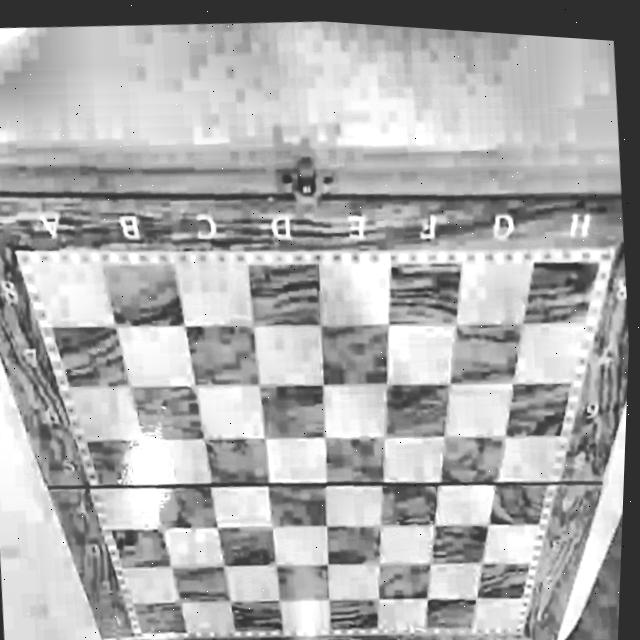chessboard: (14, 247, 615, 640)
p1: (137, 626, 148, 637)
p2: (25, 260, 35, 278)
p3: (587, 251, 606, 271)
p4: (507, 618, 518, 631)
